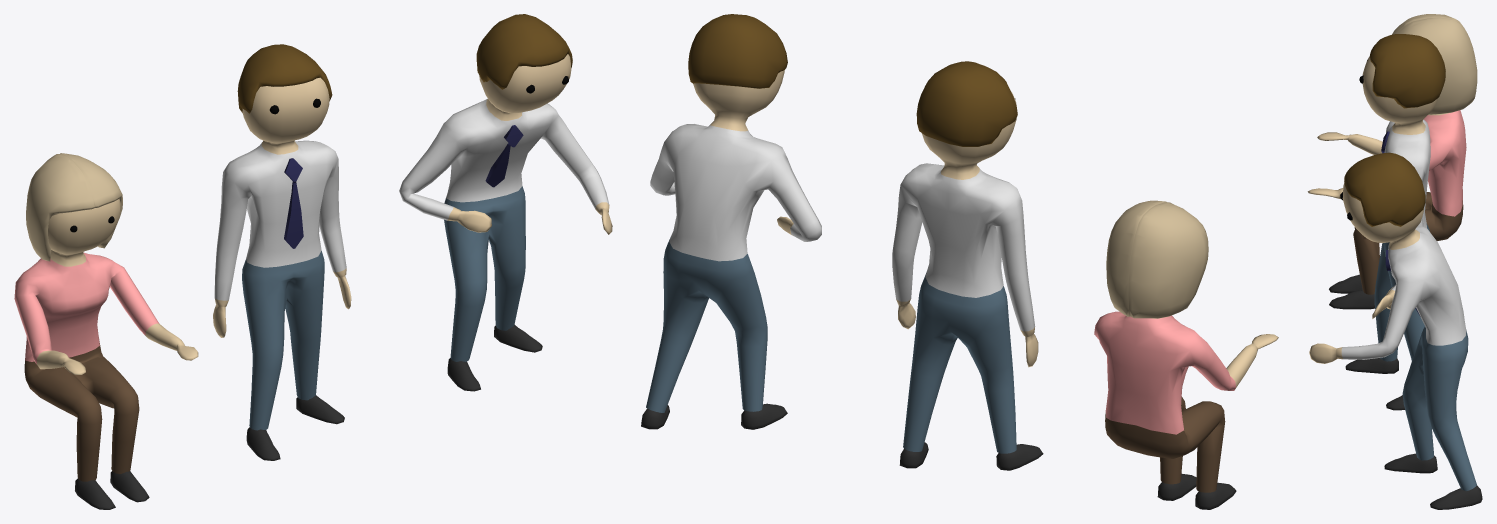
Rendered from Diplom_manekens_02.FBX.
3 views of the same model, side by side, from view 1: azimuth 30°, elevation 25°; view 2: azimuth 150°, elevation 25°; view 3: azimuth 270°, elevation 25° (orthographic). The views are drawn at different scales.
Visible parts, largest first — view 1: Cylinder020, Cylinder021, Cylinder018; view 2: Cylinder020, Cylinder021, Cylinder018; view 3: Cylinder021, Cylinder018, Cylinder020.
Boxes of the visible parts, bbox=[...] form: Cylinder020: bbox=[213, 44, 351, 460]; Cylinder021: bbox=[399, 14, 612, 391]; Cylinder018: bbox=[14, 153, 198, 509]; Cylinder020: bbox=[892, 61, 1043, 470]; Cylinder021: bbox=[641, 14, 821, 429]; Cylinder018: bbox=[1094, 200, 1278, 509]; Cylinder021: bbox=[1309, 152, 1482, 509]; Cylinder018: bbox=[1307, 14, 1477, 309]; Cylinder020: bbox=[1345, 34, 1445, 410].
Size of the model in its own units: 2481 by 1604 by 730.
